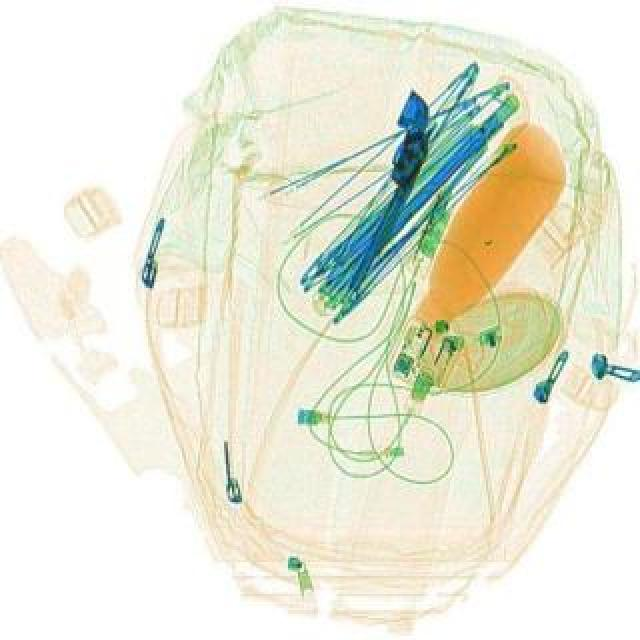gun: (330, 82, 448, 290)
